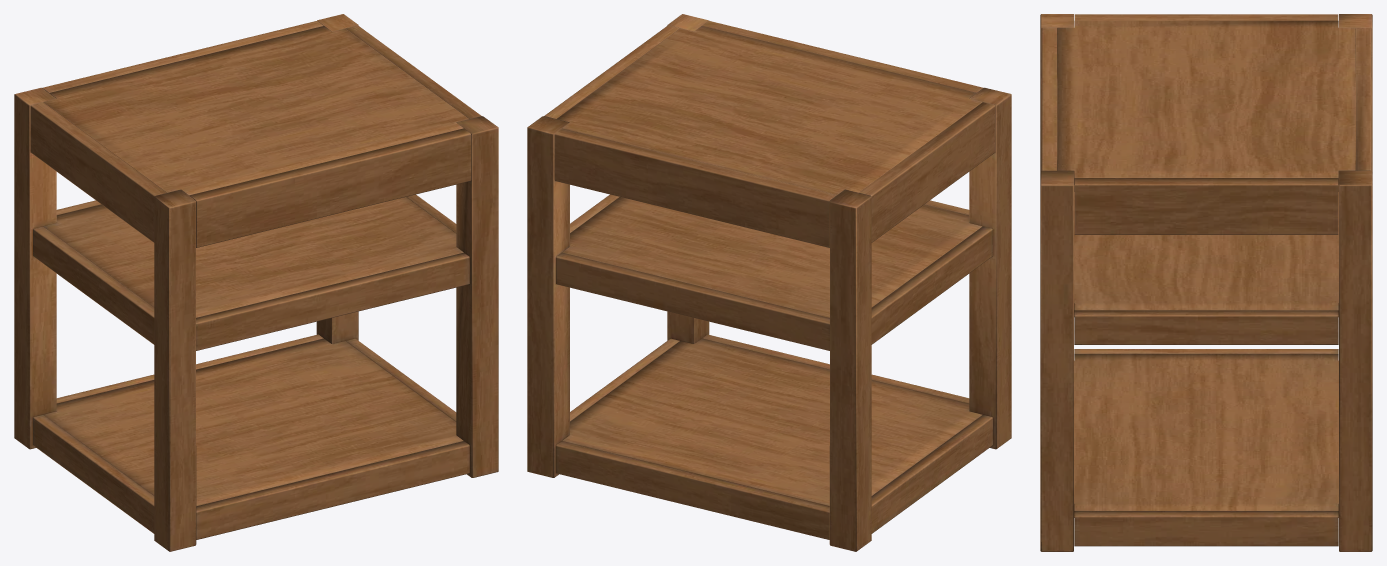
The model's file is side_table_01.glb.
The picture shows the model from 3 angles, left to right: view 1: azimuth 30°, elevation 25°; view 2: azimuth 150°, elevation 25°; view 3: azimuth 270°, elevation 25°; orthographic projection. The views are drawn at different scales.
Parts seen in each view (by area): view 1: side_table_01; view 2: side_table_01; view 3: side_table_01.
Boxes of the visible parts, x1,y1,x2,y2 form: side_table_01: (14, 14, 498, 551); side_table_01: (527, 14, 1011, 551); side_table_01: (1040, 14, 1372, 551).
Size of the model in its own units: 0.55 by 0.5507 by 0.45.
Materials: 1 (1 with a texture image).
